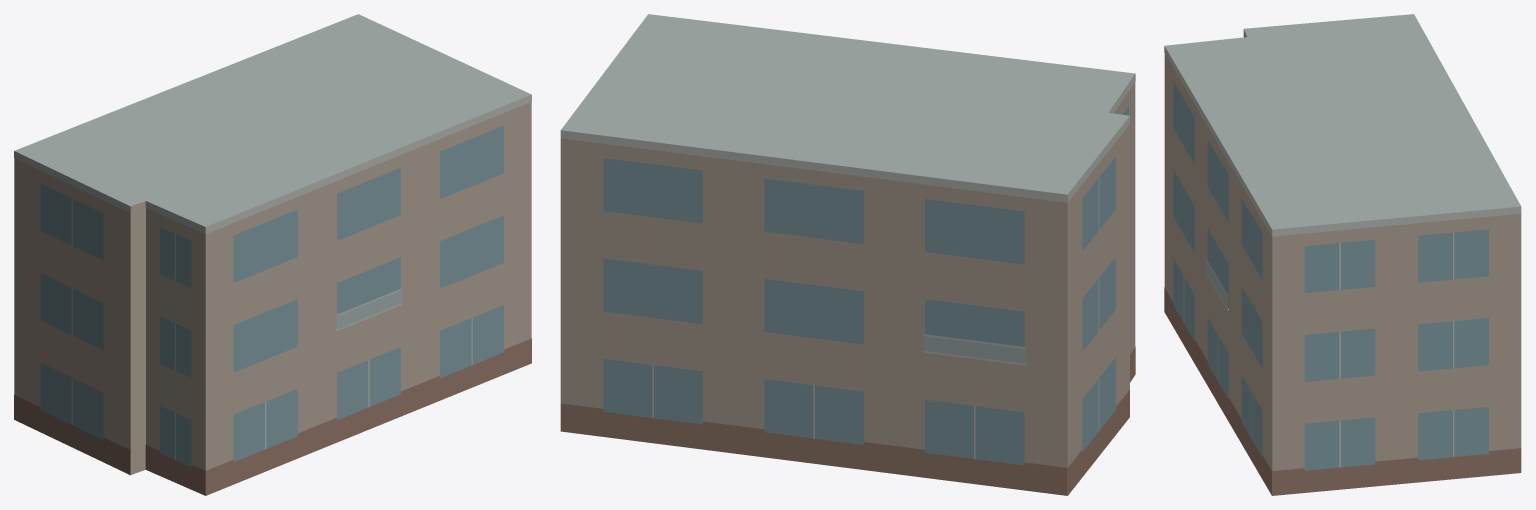
Rendered from survey-upis-33012007.glb.
3 views of the same model, side by side, from view 1: azimuth 30°, elevation 25°; view 2: azimuth 150°, elevation 25°; view 3: azimuth 270°, elevation 25° (orthographic). The views are drawn at different scales.
Visible parts, largest first — view 1: survey-upis-33012007.tmp; view 2: survey-upis-33012007.tmp; view 3: survey-upis-33012007.tmp.
Boxes of the visible parts, x1,y1,x2,y2 form: survey-upis-33012007.tmp: (14, 14, 531, 495); survey-upis-33012007.tmp: (560, 14, 1135, 495); survey-upis-33012007.tmp: (1164, 14, 1521, 495).
Size of the model in its own units: 15.9 by 9.15 by 11.12.
